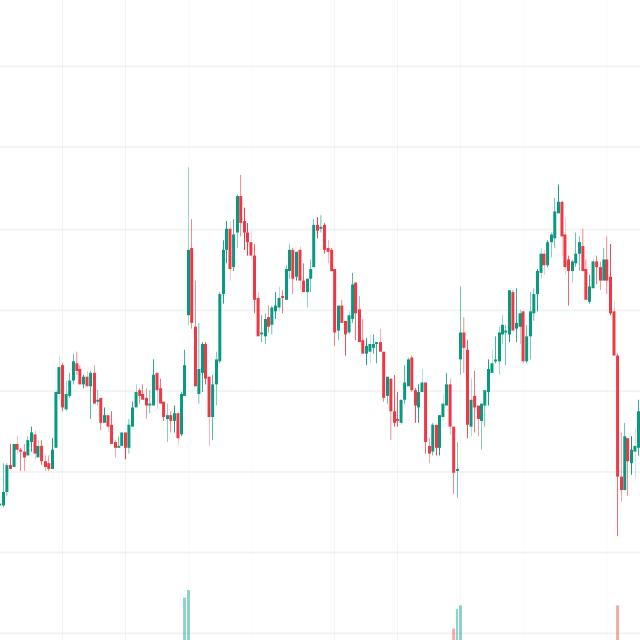Triple-Bottom: (380, 312, 501, 495)
